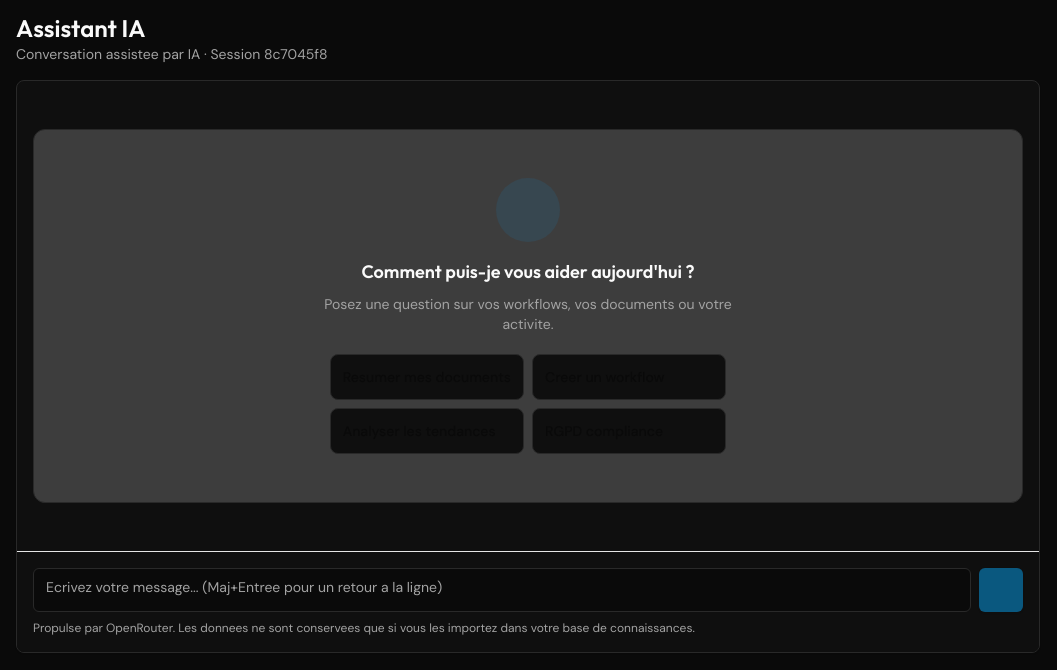
Chat page › shows a setup hint when AI service is not configured
Step 1. Type "Hello AI" into the text box with placeholder "Ecrivez votre message" → x=502, y=590, box [33,568,971,612]
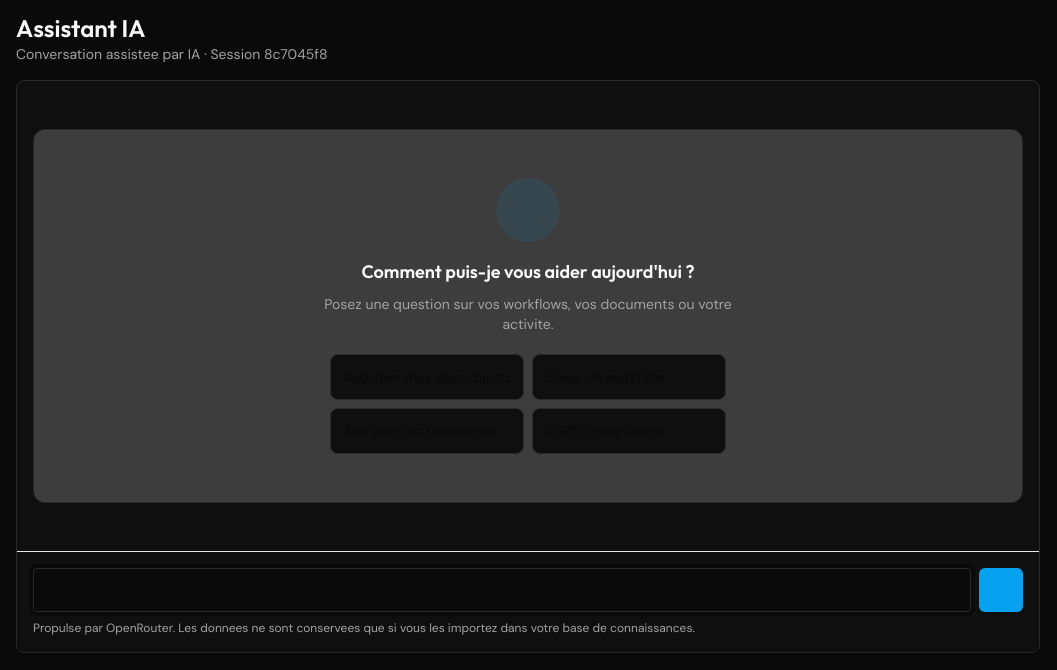
Step 2. Click the button named "Envoyer le message" → x=1001, y=590, box [979,568,1023,612]
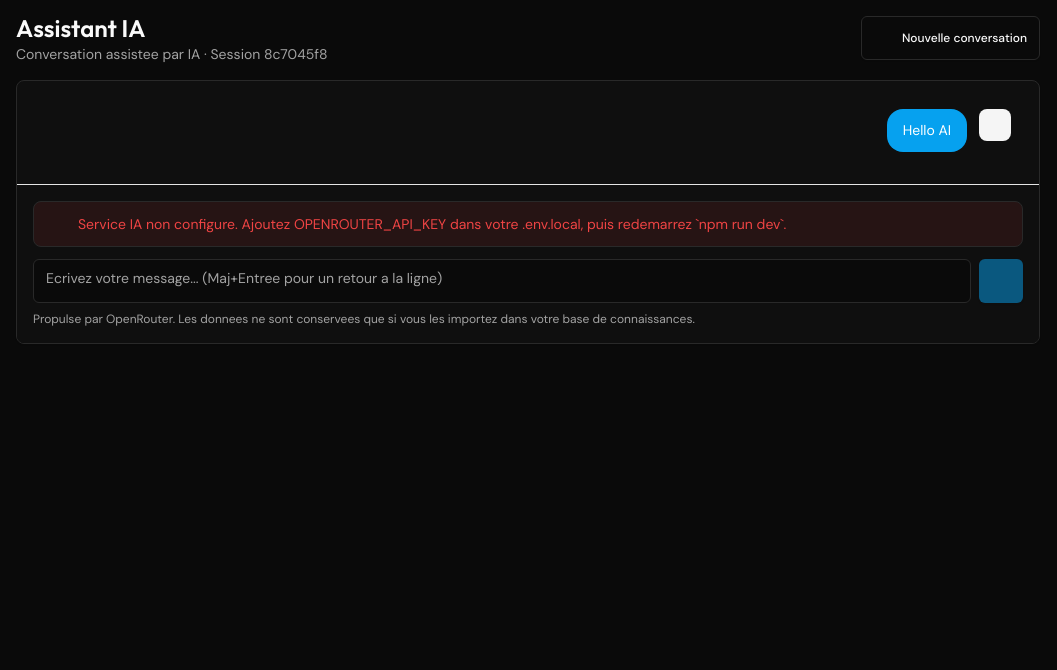
Check: the message shows "OPENROUTER_API_KEY", box [78,215,786,233]
